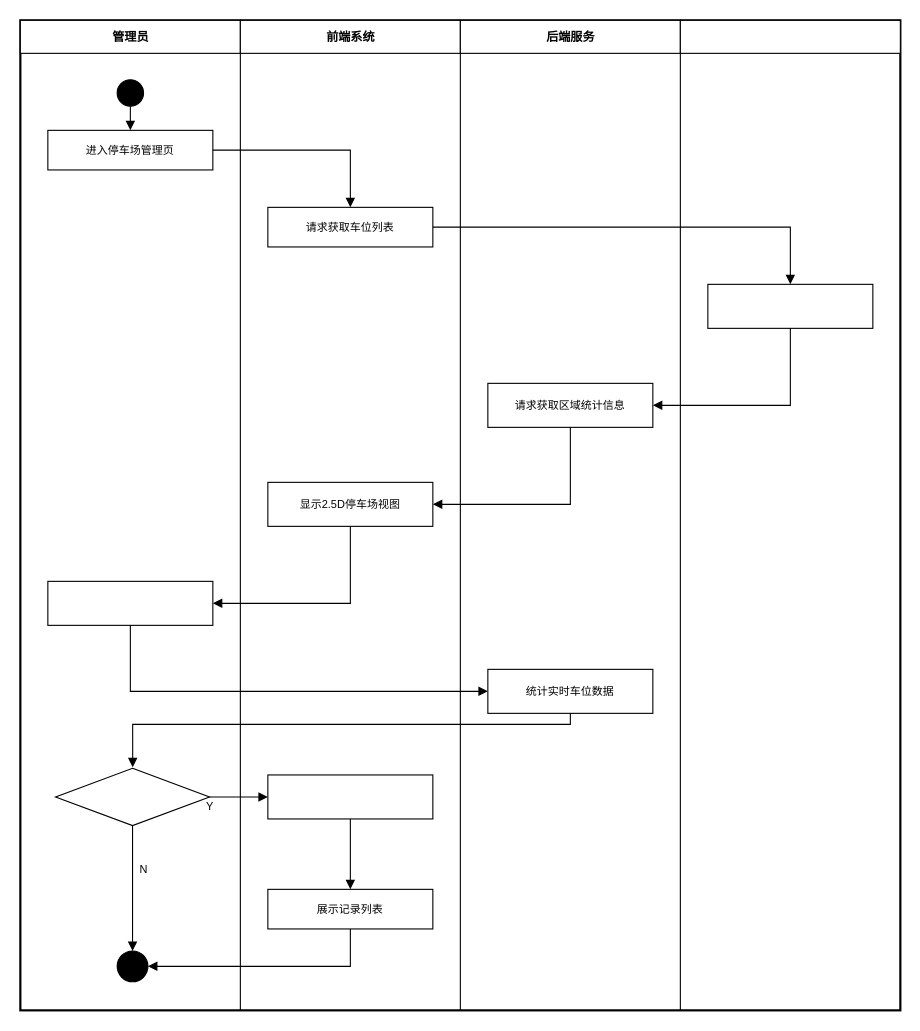
This 920x1031 diagram has some shape labels left out. The box of each missing label's shape, as (x1, y1, x2, y2) in pixels:
数据库: (679, 19, 900, 53)
是否查询 停车记录?: (54, 767, 210, 826)
查询所有车位及区域信息: (707, 283, 873, 328)
请求停车记录列表: (267, 774, 433, 819)
请求实时停车数据: (47, 580, 213, 625)
